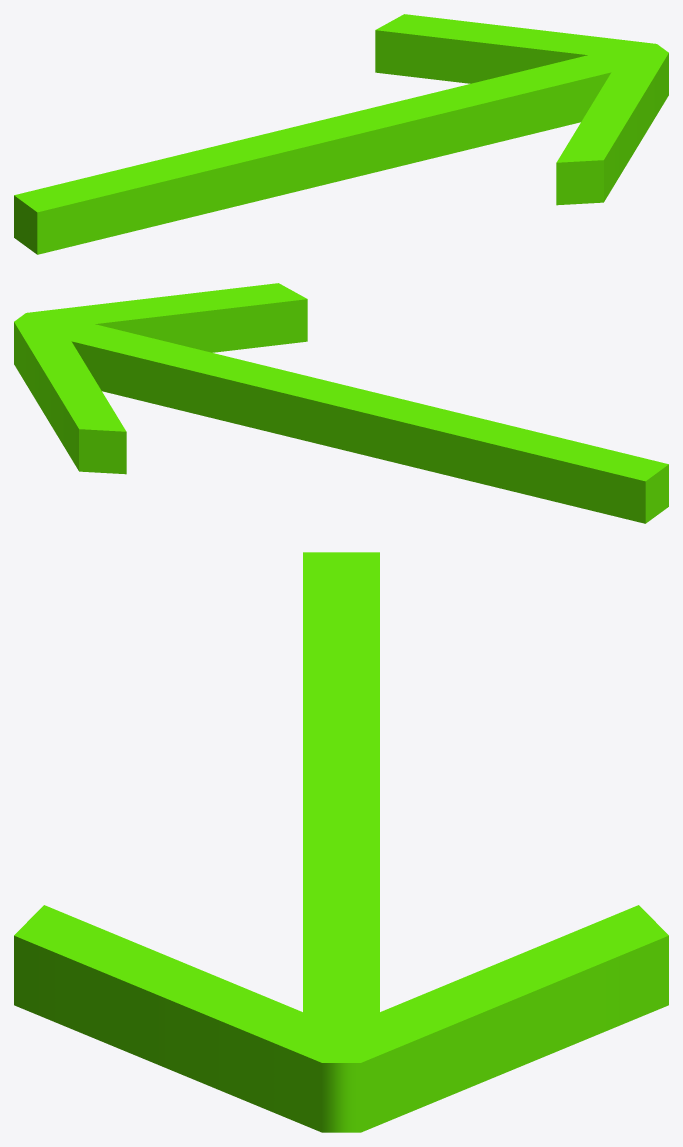
File: yajirusi.fbx
3 renders of one model, top to bottom at view 1: azimuth 30°, elevation 25°; view 2: azimuth 150°, elevation 25°; view 3: azimuth 270°, elevation 25°, orthographic. The views are drawn at different scales.
Visible parts, largest first — view 1: pCube1; view 2: pCube1; view 3: pCube1.
Boxes of the visible parts, x1,y1,x2,y2 form: pCube1: [14, 14, 668, 254]; pCube1: [14, 283, 668, 523]; pCube1: [14, 552, 668, 1132].
Bounding box in the file's own units: 15.7 × 1 × 8.52.
